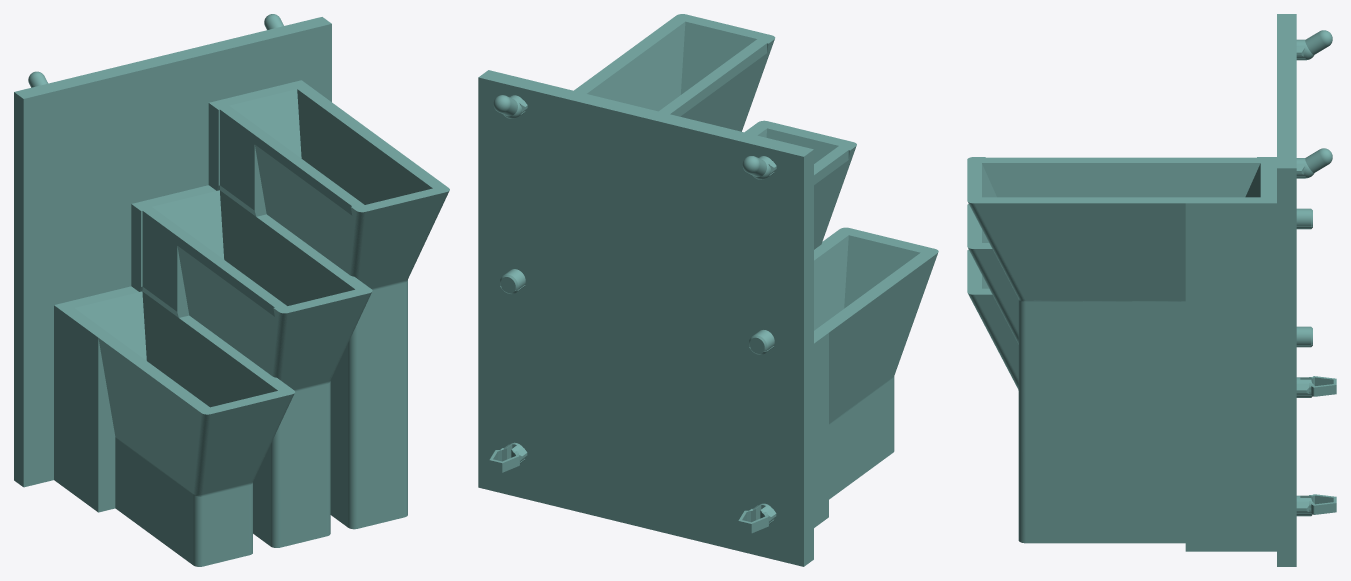
The model's file is print.glb.
3 renders of one model, left to right at view 1: azimuth 30°, elevation 25°; view 2: azimuth 150°, elevation 25°; view 3: azimuth 270°, elevation 25°, orthographic. The views are drawn at different scales.
Parts seen in each view (by area): view 1: holder; view 2: holder; view 3: holder.
Boxes of the visible parts, x1,y1,x2,y2 form: holder: [14, 14, 449, 566]; holder: [478, 14, 938, 566]; holder: [967, 14, 1336, 566].
Size of the model in its own units: 0.0996 by 0.1202 by 0.1008.
